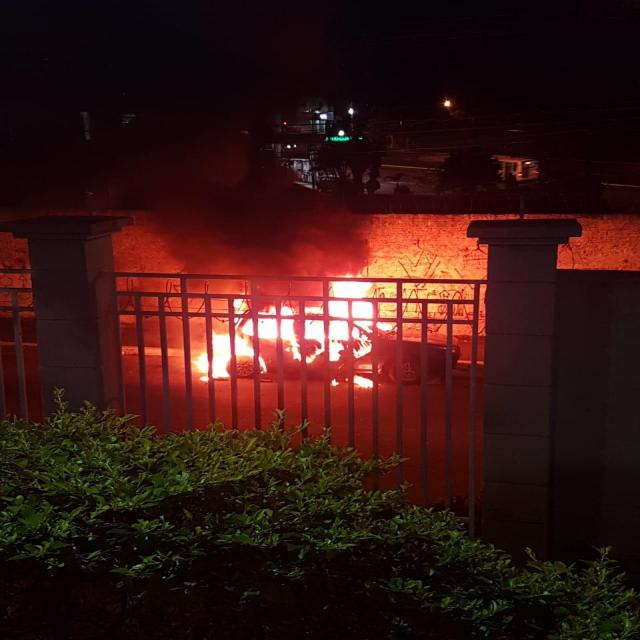fire: (180, 246, 431, 388)
